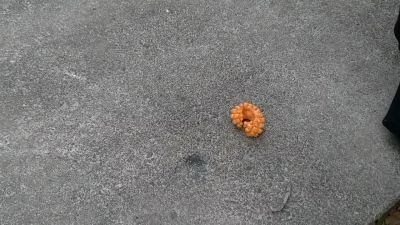eggs: (229, 102, 267, 138)
